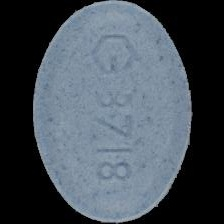55289-787: (0, 0, 224, 224)
